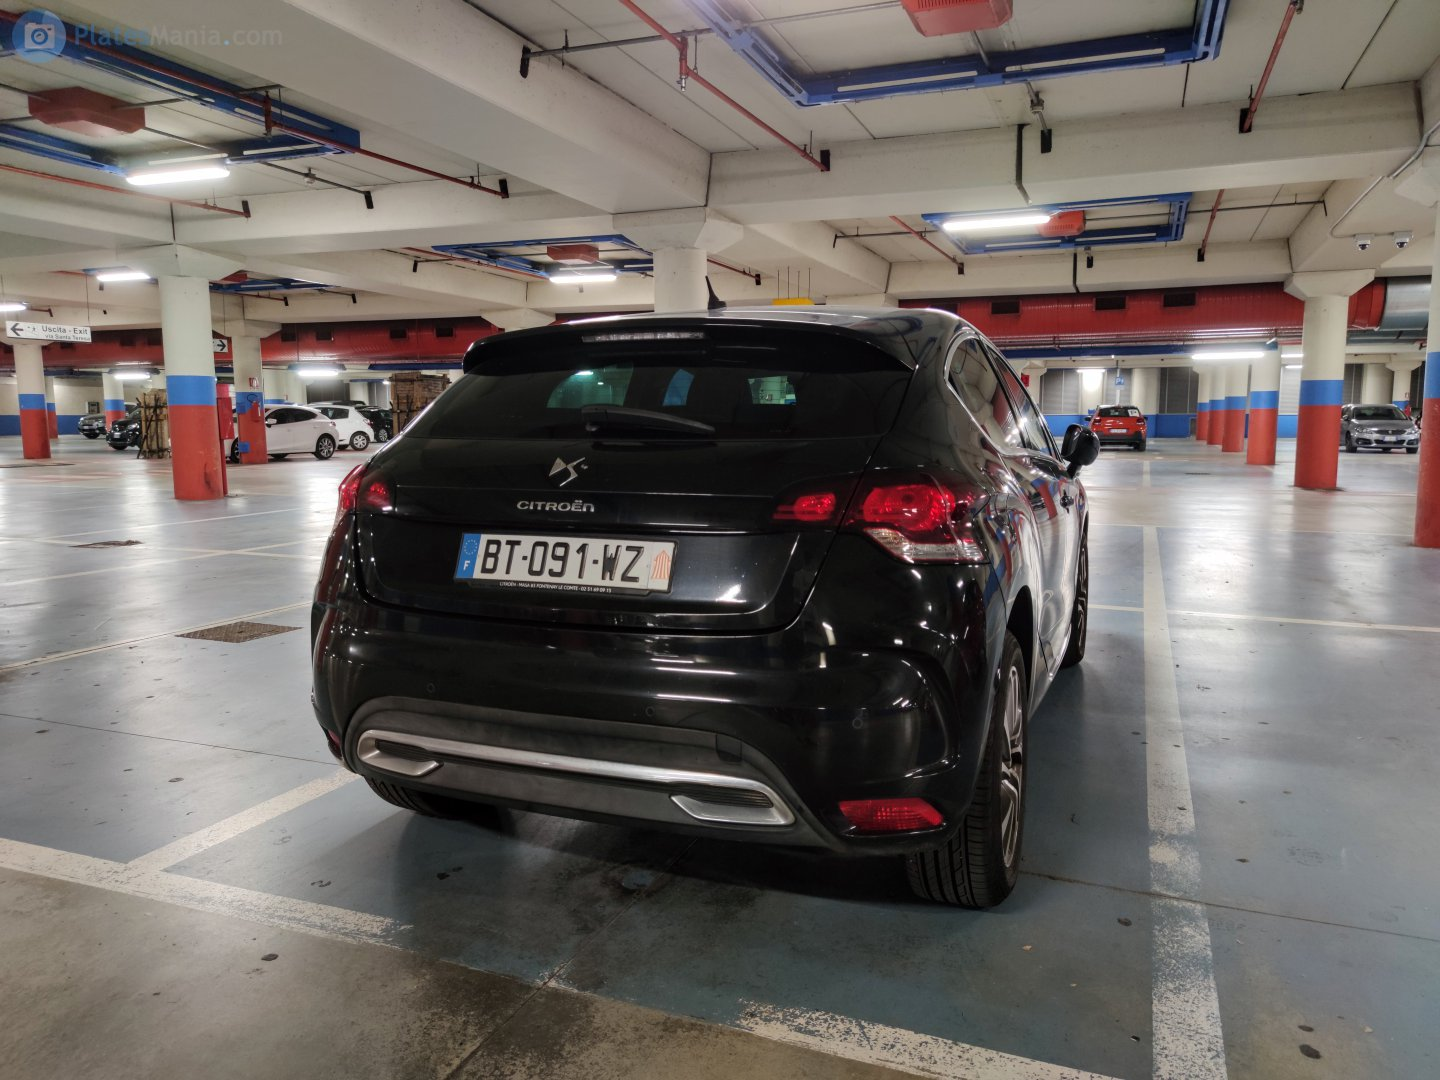licence plate: (450, 522, 681, 599)
